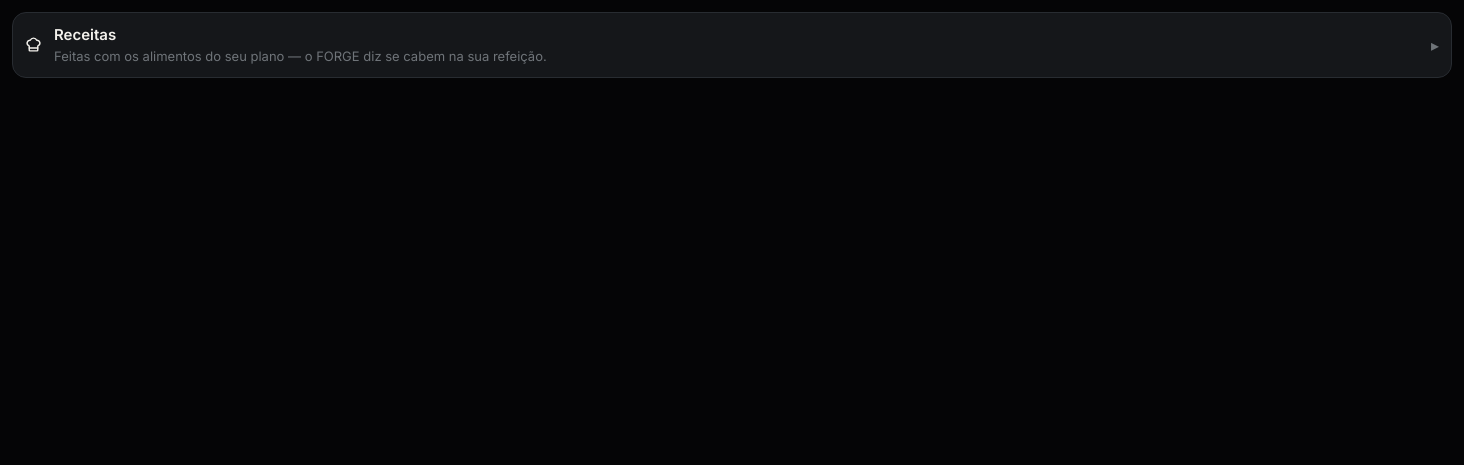
Test: lista uma aba por classe, com a contagem
This screenshot has width=1464, height=465.
Click the button with test id "abrir-receitas": (85, 34) [12, 12, 1452, 78]
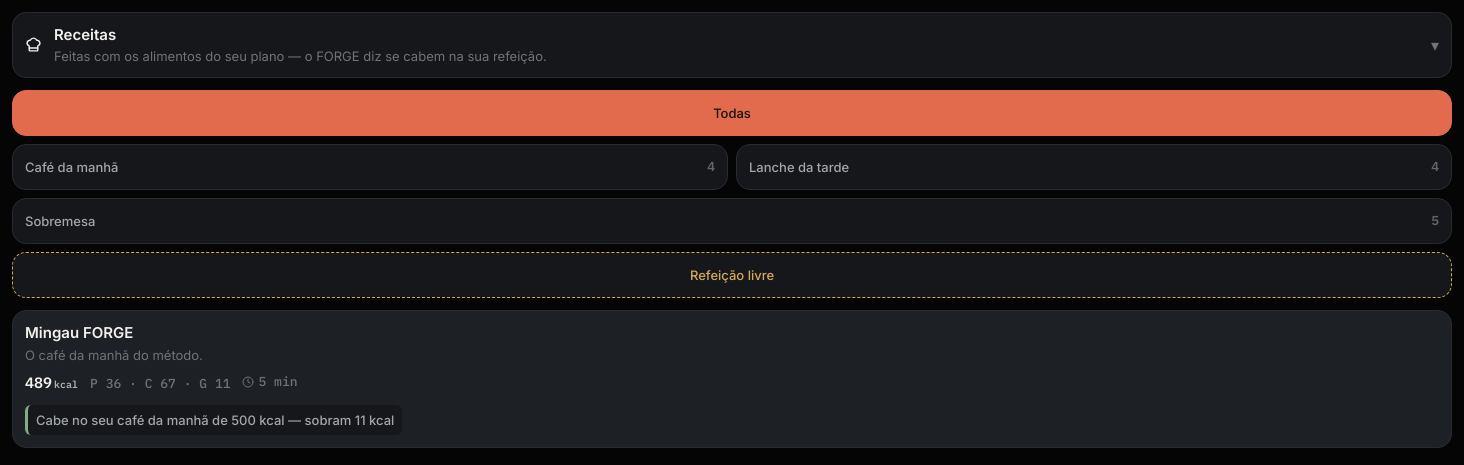
Result: the tab with test id "aba-cafe_da_manha" shows "Café da manhã" at [12, 144, 728, 190]
Result: the tab with test id "aba-cafe_da_manha" shows "4" at [12, 144, 728, 190]
